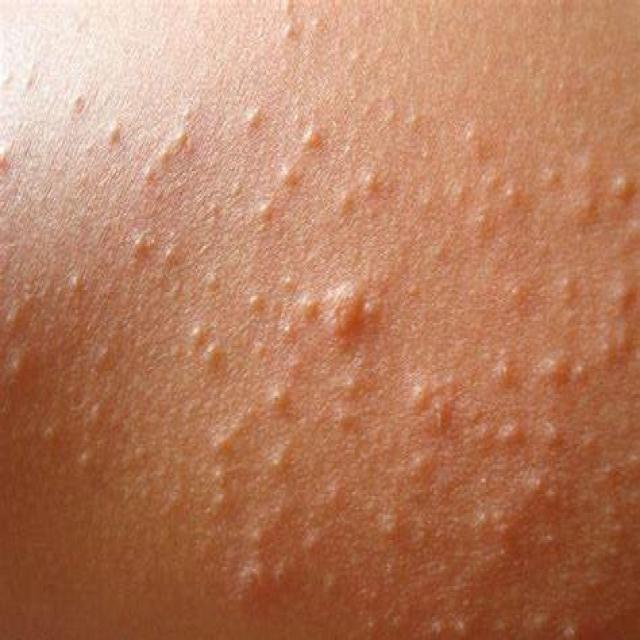fungal: (1, 0, 637, 633)
